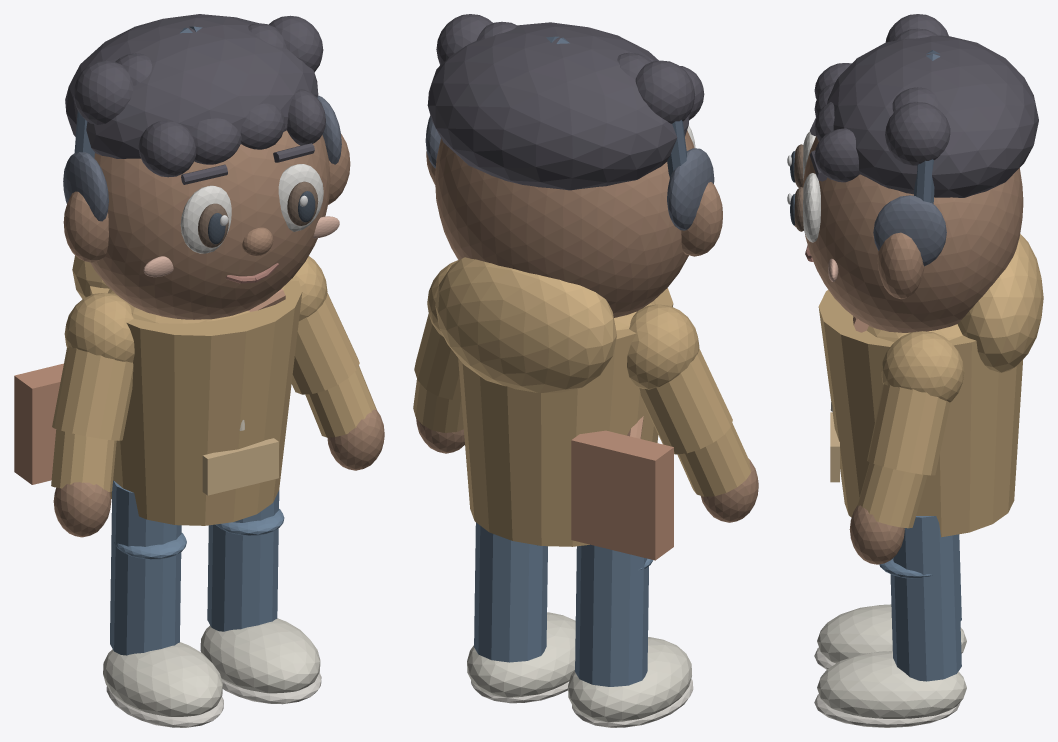
File: 04_Street_Leo.glb
3 renders of one model, left to right at view 1: azimuth 30°, elevation 25°; view 2: azimuth 150°, elevation 25°; view 3: azimuth 270°, elevation 25°, orthographic. The views are drawn at different scales.
Parts seen in each view (by area): view 1: 04_Street_Leo_torso_008, 04_Street_Leo_head_019, 04_Street_Leo_hair_main_039, 04_Street_Leo_pant_leg_002, 04_Street_Leo_pant_leg_006, 04_Street_Leo_shoe_000, 04_Street_Leo_shoe_004, 04_Street_Leo_upper_arm_012, 04_Street_Leo_messenger_bag_060, 04_Street_Leo_upper_arm_016, 04_Street_Leo_shoulder_011, 04_Street_Leo_forearm_013 (+27 smaller); view 2: 04_Street_Leo_hair_main_039, 04_Street_Leo_head_019, 04_Street_Leo_torso_008, 04_Street_Leo_hood_back_044, 04_Street_Leo_messenger_bag_060, 04_Street_Leo_pant_leg_002, 04_Street_Leo_pant_leg_006, 04_Street_Leo_upper_arm_012, 04_Street_Leo_shoe_000, 04_Street_Leo_shoe_004, 04_Street_Leo_shoulder_011, 04_Street_Leo_forearm_013 (+12 smaller); view 3: 04_Street_Leo_hair_main_039, 04_Street_Leo_torso_008, 04_Street_Leo_head_019, 04_Street_Leo_pant_leg_006, 04_Street_Leo_shoe_004, 04_Street_Leo_hood_back_044, 04_Street_Leo_upper_arm_016, 04_Street_Leo_shoulder_015, 04_Street_Leo_shoe_000, 04_Street_Leo_hair_curl_053, 04_Street_Leo_forearm_017, 04_Street_Leo_headphone_pad_055 (+13 smaller).
Boxes of the visible parts, x1,y1,x2,y2 form: 04_Street_Leo_torso_008: (90,280,302,525); 04_Street_Leo_head_019: (91,130,330,319); 04_Street_Leo_hair_main_039: (65,14,318,158); 04_Street_Leo_pant_leg_002: (110,480,181,655); 04_Street_Leo_pant_leg_006: (207,490,279,631); 04_Street_Leo_shoe_000: (103,642,222,716); 04_Street_Leo_shoe_004: (200,618,320,693); 04_Street_Leo_upper_arm_012: (52,346,133,440); 04_Street_Leo_messenger_bag_060: (14,363,63,484); 04_Street_Leo_upper_arm_016: (291,293,359,394); 04_Street_Leo_shoulder_011: (64,292,134,362); 04_Street_Leo_forearm_013: (51,429,116,491); 04_Street_Leo_hair_main_039: (427,22,689,190); 04_Street_Leo_head_019: (435,130,694,317); 04_Street_Leo_torso_008: (458,288,673,546); 04_Street_Leo_hood_back_044: (435,257,616,392); 04_Street_Leo_messenger_bag_060: (571,430,673,560); 04_Street_Leo_pant_leg_002: (575,544,648,686); 04_Street_Leo_pant_leg_006: (474,522,547,662); 04_Street_Leo_upper_arm_012: (639,349,732,454); 04_Street_Leo_shoe_000: (568,637,691,722); 04_Street_Leo_shoe_004: (467,612,575,697); 04_Street_Leo_shoulder_011: (627,304,699,389); 04_Street_Leo_forearm_013: (677,423,751,496); 04_Street_Leo_hair_main_039: (827,35,1038,197); 04_Street_Leo_torso_008: (818,289,1023,537); 04_Street_Leo_head_019: (802,136,1023,332); 04_Street_Leo_pant_leg_006: (890,516,961,681); 04_Street_Leo_shoe_004: (817,651,966,718); 04_Street_Leo_hood_back_044: (957,234,1043,372); 04_Street_Leo_upper_arm_016: (867,384,950,475); 04_Street_Leo_shoulder_015: (881,331,964,402); 04_Street_Leo_shoe_000: (817,604,966,663); 04_Street_Leo_hair_curl_053: (885,102,950,165); 04_Street_Leo_forearm_017: (857,462,927,528); 04_Street_Leo_headphone_pad_055: (873,195,946,266).
Size of the model in its own units: 1.2 by 2.31 by 0.837.
